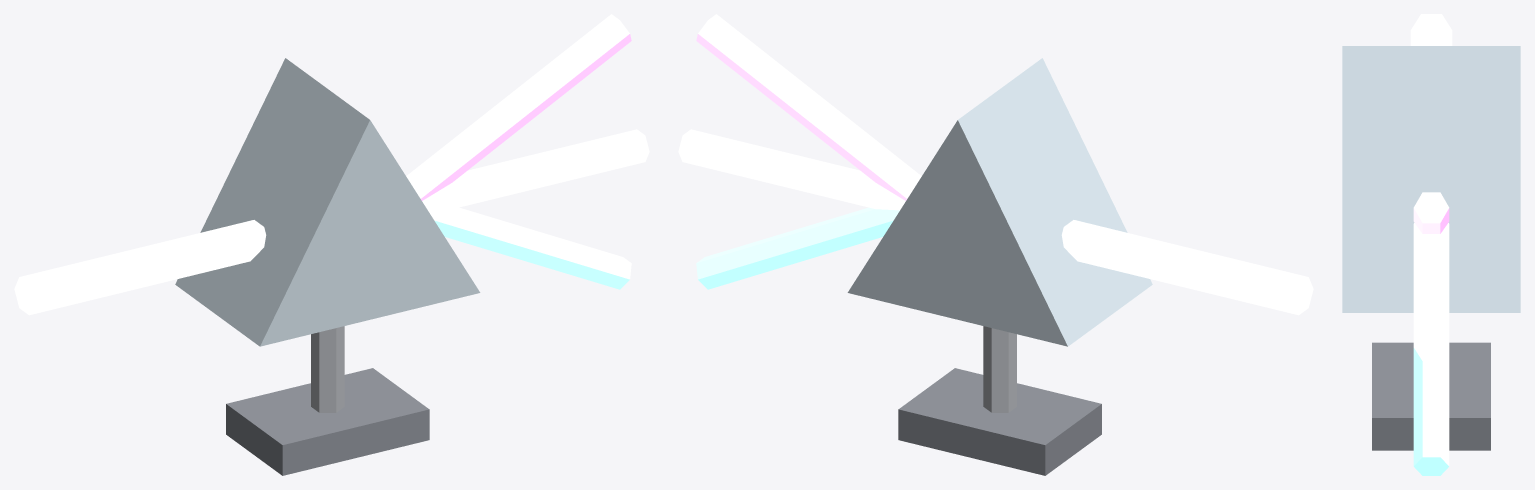
File: item_splitter.glb
3 views of the same model, side by side, from view 1: azimuth 30°, elevation 25°; view 2: azimuth 150°, elevation 25°; view 3: azimuth 270°, elevation 25° (orthographic). The views are drawn at different scales.
Visible parts, largest first — view 1: item_splitter; view 2: item_splitter; view 3: item_splitter.
Part boxes in pixels (x1,y1,x2,y2): item_splitter: (14, 14, 649, 475); item_splitter: (678, 14, 1313, 475); item_splitter: (1342, 14, 1520, 475).
Size of the model in its own units: 1.26 by 0.683 by 0.3.
